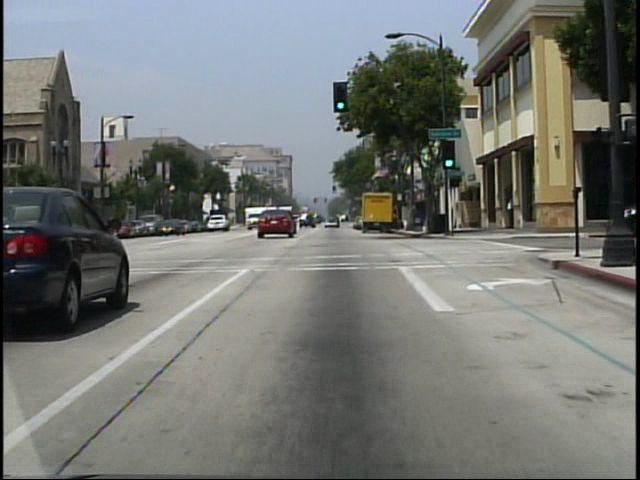person: (505, 195, 513, 229)
